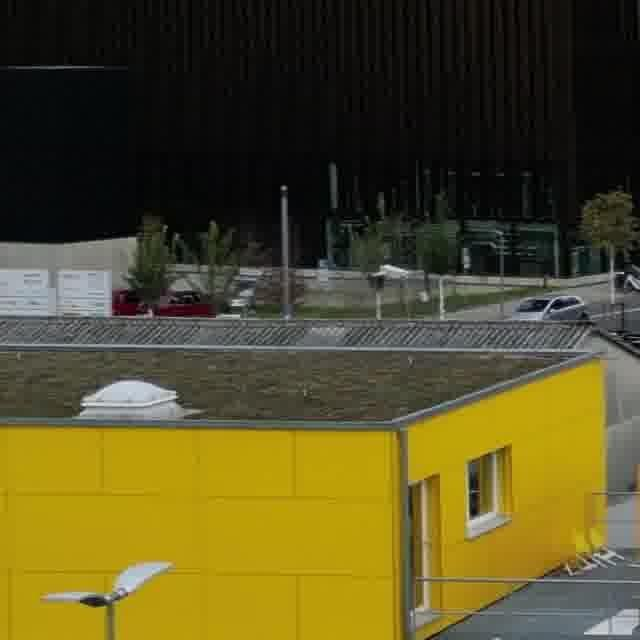Drohne: (380, 265, 408, 276)
